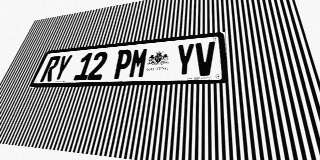1: (73, 52, 95, 81)
2: (87, 51, 109, 80)
M: (128, 47, 149, 79)
P: (111, 49, 133, 79)
R: (39, 56, 61, 82)
V: (195, 41, 216, 76)
Y: (174, 43, 195, 77), (51, 54, 73, 81)
